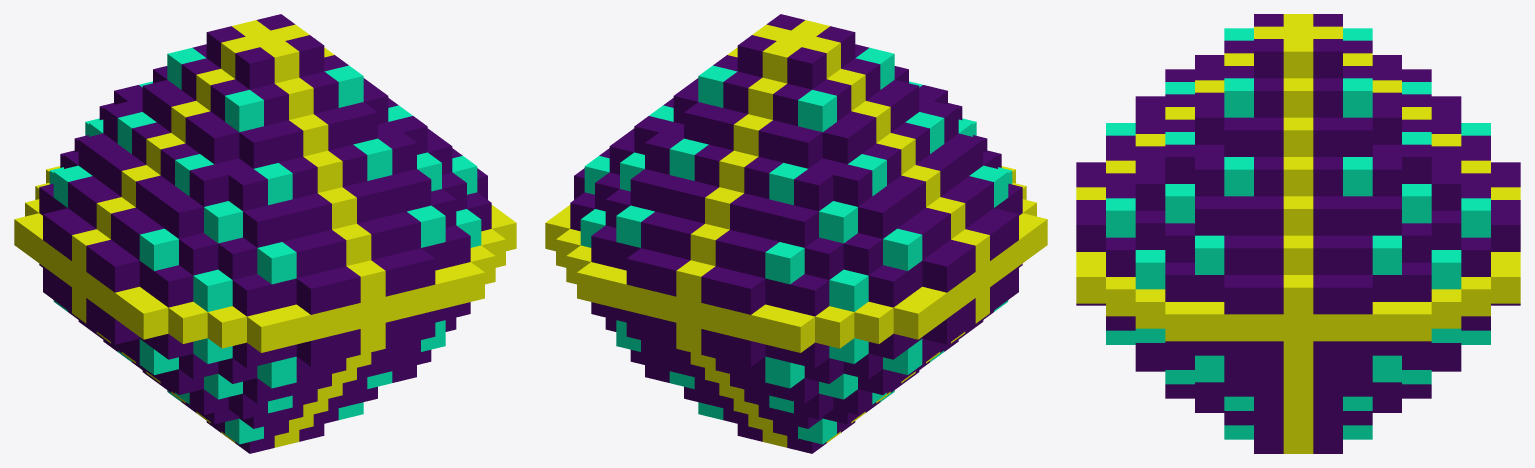
The model's file is ShotAnubis.obj.
3 renders of one model, left to right at view 1: azimuth 30°, elevation 25°; view 2: azimuth 150°, elevation 25°; view 3: azimuth 270°, elevation 25°, orthographic. The views are drawn at different scales.
Visible parts, largest first — view 1: anubis_shot; view 2: anubis_shot; view 3: anubis_shot.
Part boxes in pixels (x1=…): anubis_shot: x1=14, y1=14, x2=516, y2=453; anubis_shot: x1=545, y1=14, x2=1047, y2=453; anubis_shot: x1=1076, y1=14, x2=1520, y2=453.
Size of the model in its own units: 1.5 by 1.5 by 1.5.
Materials: 1 (1 with a texture image).
